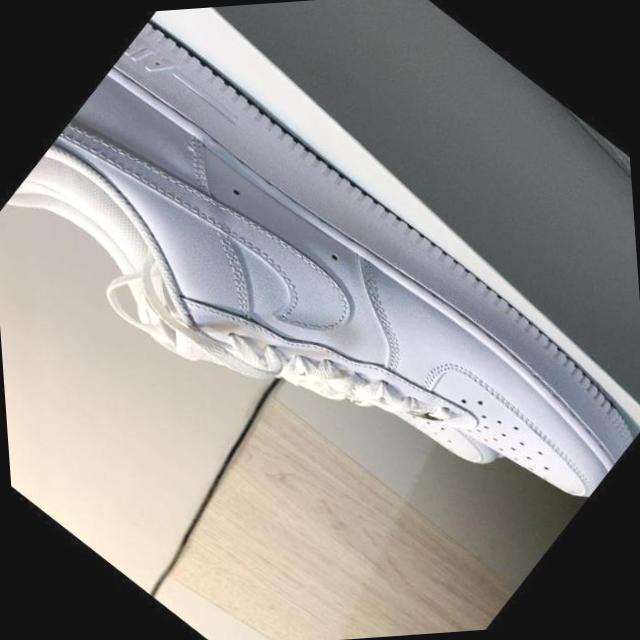nike_original_airforce: (3, 0, 640, 616)
